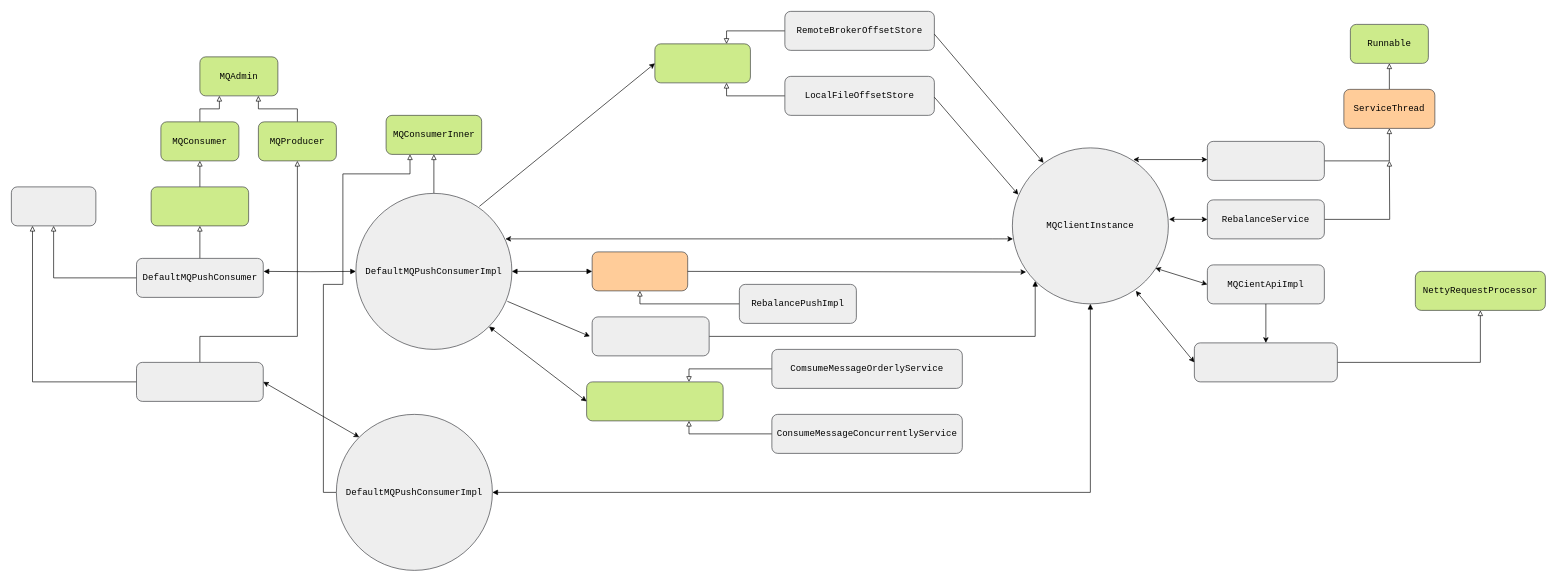
The diagram is 1557 pixels wide and 582 high, and some of its shapes have lost their labels. Here are the shapes that lost their labels. From the top down, the centre of each, then its label:
At point 702,63: "OffsetStore".
At point 1265,160: "PullMessageService".
At point 53,206: "ClientConfig".
At point 199,206: "MQPushConsumer".
At point 640,271: "RebalanceImpl".
At point 650,336: "PullAPIWrapper".
At point 199,381: "DefaultMQProducer".
At point 1265,362: "ClientRemotingProcessor".
At point 654,401: "ComsumeMessageService".
